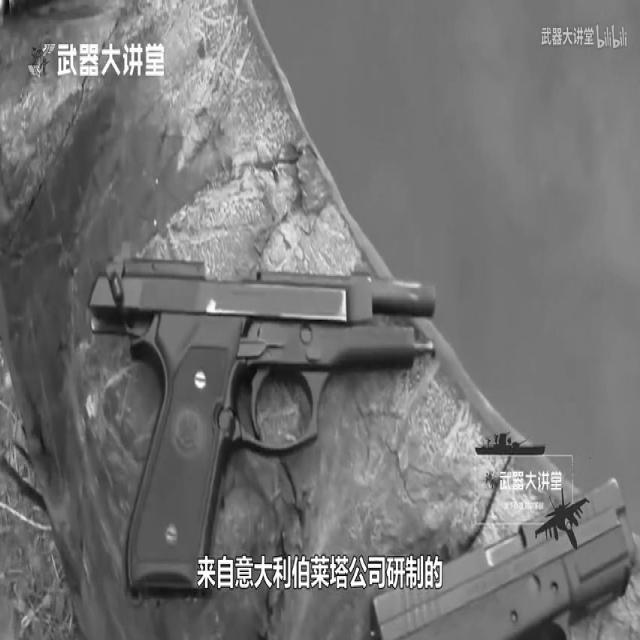Hand-Gun: (94, 152, 459, 616), (355, 445, 639, 640)
